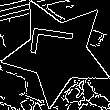L_E: (30, 33, 85, 71)
